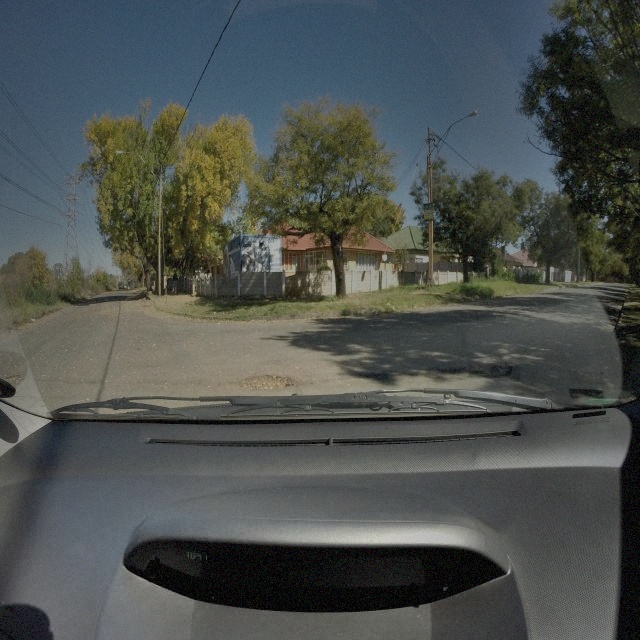pothole: (238, 371, 295, 390), (4, 371, 22, 388)
